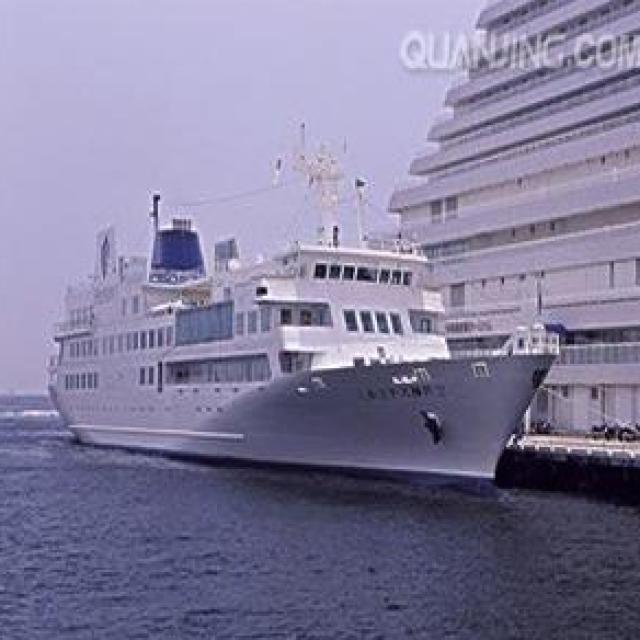passenger ship: (34, 220, 558, 483)
